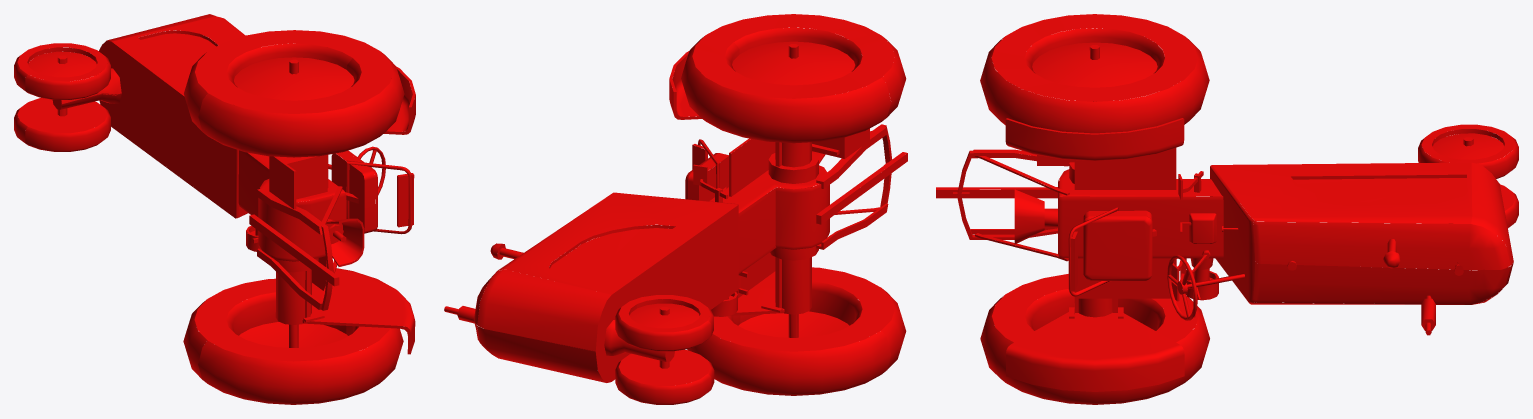
3 views of the same model, side by side, from view 1: azimuth 30°, elevation 25°; view 2: azimuth 150°, elevation 25°; view 3: azimuth 270°, elevation 25° (orthographic). The views are drawn at different scales.
Parts seen in each view (by area): view 1: Renderer Node; view 2: Renderer Node; view 3: Renderer Node.
Boxes of the visible parts, x1,y1,x2,y2 form: Renderer Node: (14,14,415,404); Renderer Node: (444,14,907,404); Renderer Node: (936,14,1518,404).
Size of the model in its own units: 1.14 by 1.23 by 2.
1 material, 1 textured.
